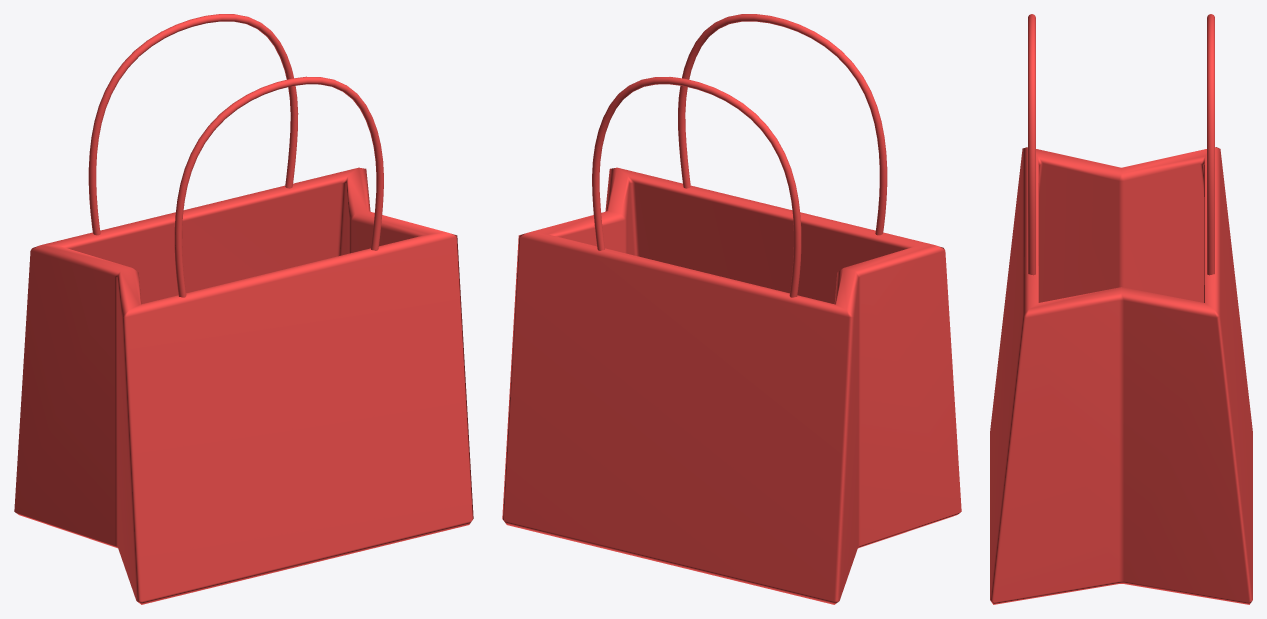
The model's file is Public_10_Package_6.glb.
3 renders of one model, left to right at view 1: azimuth 30°, elevation 25°; view 2: azimuth 150°, elevation 25°; view 3: azimuth 270°, elevation 25°, orthographic. The views are drawn at different scales.
Visible parts, largest first — view 1: Public_10_Package_6; view 2: Public_10_Package_6; view 3: Public_10_Package_6.
Part boxes in pixels (x1=…): Public_10_Package_6: x1=14, y1=14, x2=473, y2=604; Public_10_Package_6: x1=502, y1=14, x2=961, y2=604; Public_10_Package_6: x1=990, y1=14, x2=1252, y2=604.
Bounding box in the file's own units: 1.83 × 2.45 × 1.19.
Materials: 1 (1 with a texture image).
